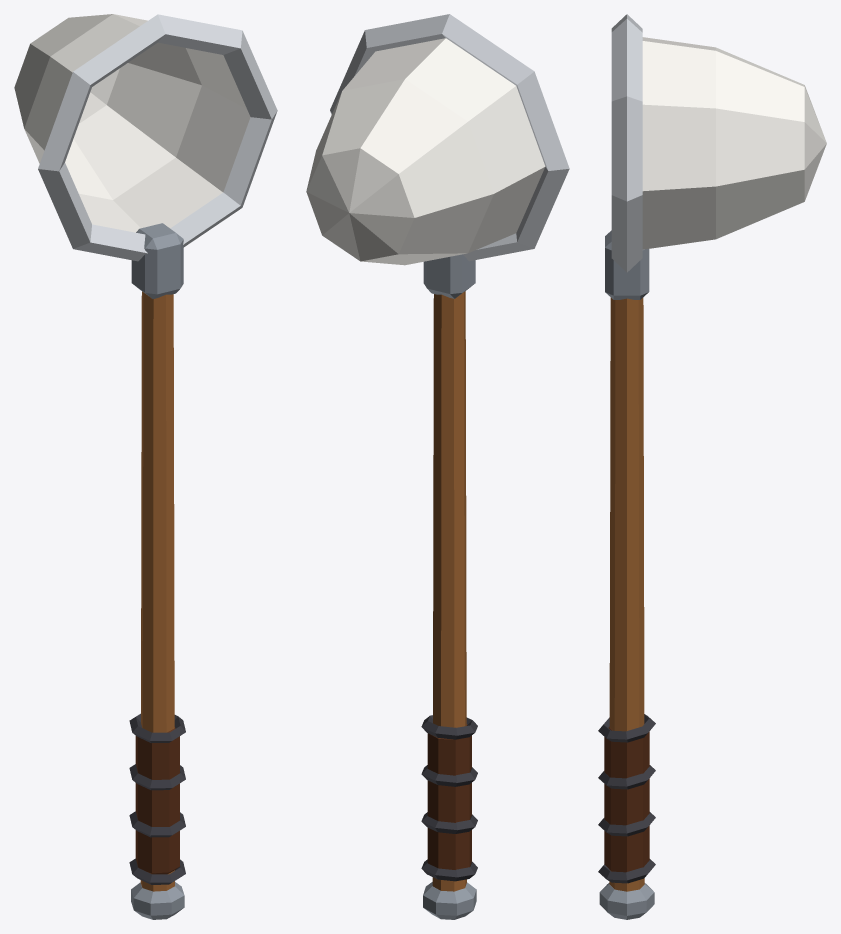
Rendered from IronBugNet.fbx.
3 views of the same model, side by side, from view 1: azimuth 30°, elevation 25°; view 2: azimuth 150°, elevation 25°; view 3: azimuth 270°, elevation 25° (orthographic).
Parts seen in each view (by area): view 1: IronBugNet; view 2: IronBugNet; view 3: IronBugNet.
Boxes of the visible parts, bbox=[...] form: IronBugNet: bbox=[14, 14, 277, 919]; IronBugNet: bbox=[306, 14, 569, 919]; IronBugNet: bbox=[598, 14, 826, 919].
Bounding box in the file's own units: 1.24 × 4.44 × 1.03.
Materials: 1 (1 with a texture image).
